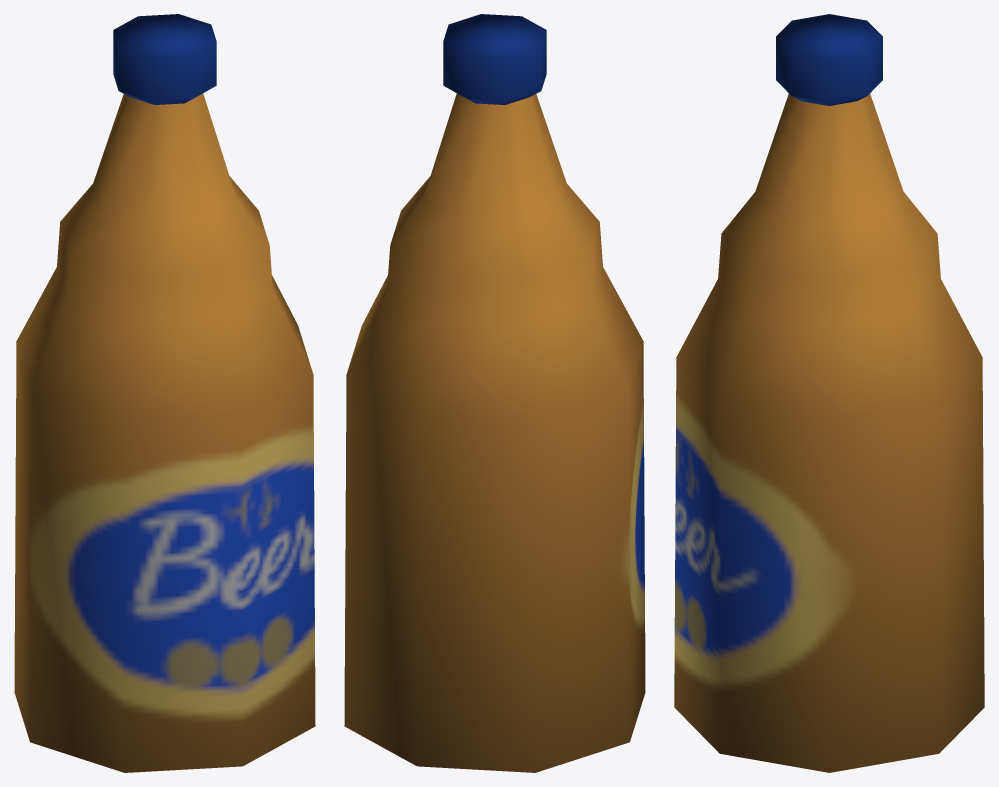
File: Beer_01.fbx
3 views of the same model, side by side, from view 1: azimuth 30°, elevation 25°; view 2: azimuth 150°, elevation 25°; view 3: azimuth 270°, elevation 25° (orthographic).
Parts seen in each view (by area): view 1: Beer_01; view 2: Beer_01; view 3: Beer_01.
Part boxes in pixels (x1,y1,x2,y2): Beer_01: (14,14,315,772); Beer_01: (344,14,645,772); Beer_01: (674,14,984,772).
Size of the model in its own units: 5.61 by 13.37 by 5.61.
